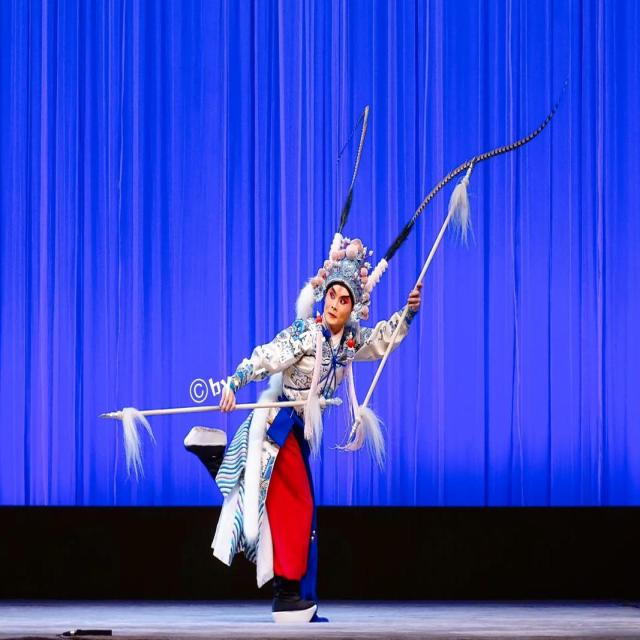Reeves-s Pheasant: (411, 64, 575, 219)
